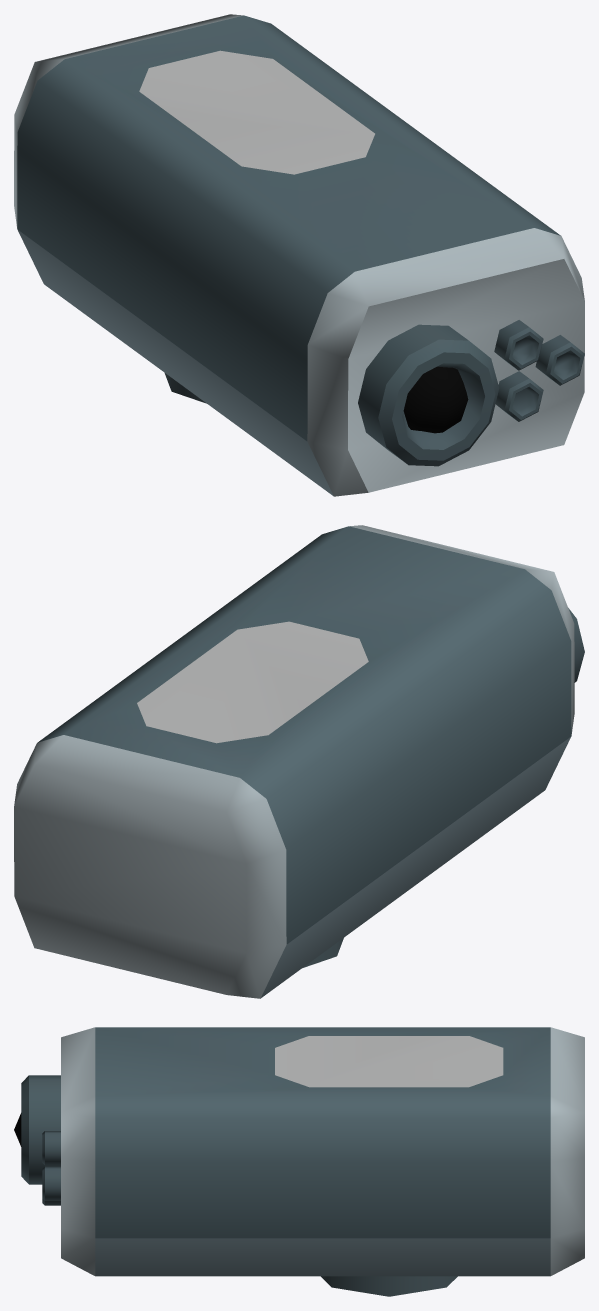
File: Cam_013.fbx
The picture shows the model from 3 angles, top to bottom: view 1: azimuth 30°, elevation 25°; view 2: azimuth 150°, elevation 25°; view 3: azimuth 270°, elevation 25°; orthographic projection. The views are drawn at different scales.
Parts seen in each view (by area): view 1: Cam_013; view 2: Cam_013; view 3: Cam_013.
Boxes of the visible parts, <box> form: Cam_013: <box>14,14,584,496</box>; Cam_013: <box>14,525,584,998</box>; Cam_013: <box>14,1027,584,1296</box>.
Size of the model in its own units: 18.96 by 43.56 by 17.04.
